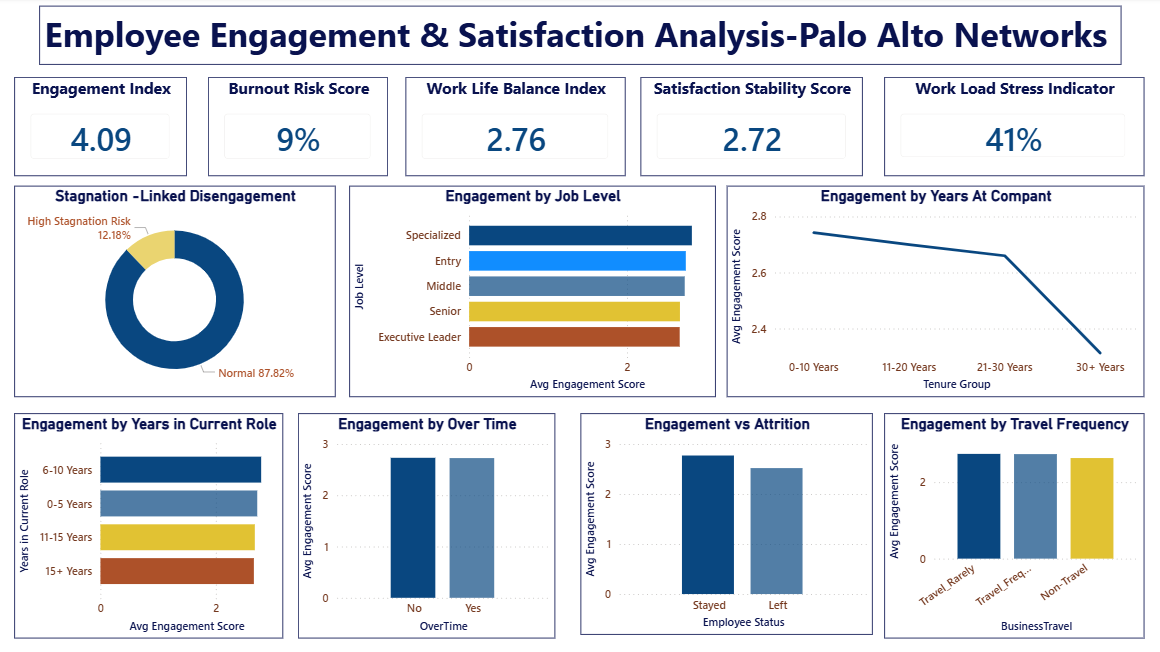

This screenshot's page, from the dashboard's own definition file:
{"tool":"powerbi","page":{"name":"Page 1","canvas":[1280,720],"ordinal":0},"visuals":[{"type":"clusteredColumnChart","title":"Engagement vs Attrition","fields":{"Category":["1 Chart.Employee Status"],"Y":["Sum(1 Chart.Avg Involvement score)"]},"box":[639.5,456.9,321.1,242.9],"z":0},{"type":"barChart","title":"Engagement by Job Level","fields":{"Category":["2 Chart.Job Level"],"Y":["Sum(2 Chart.Avg Involvement score)"]},"box":[385.6,207.2,402.1,231.9],"z":1000},{"type":"lineChart","title":"Engagement by Years At Compant","fields":{"Category":["3 Chart.Tenure Group"],"Y":["Sum(3 Chart.Avg Involvement score)"]},"box":[800,207.2,458.3,231.9],"z":2000},{"type":"barChart","title":"Engagement by Years in Current Role","fields":{"Category":["4 Chart.Role Tenure Group"],"Y":["Sum(4 Chart.Avg Involvement score)"]},"box":[17.8,456.9,295,247],"z":3000},{"type":"donutChart","title":" Stagnation -Linked Disengagement","fields":{"Category":["5 Chart.Stagnation Risk"],"Y":["Sum(5 Chart.Employee Count)"]},"box":[17.8,207.2,352.7,231.9],"z":4000},{"type":"textbox","box":[45.3,9.6,1188.3,64.5],"z":4001},{"type":"clusteredColumnChart","title":"Engagement by Over Time","fields":{"Category":["6 Chart.OverTime"],"Y":["Sum(6 Chart.Avg Involvement score)"]},"box":[329.3,456.9,282.7,247],"z":4002},{"type":"clusteredColumnChart","title":"Engagement by Travel Frequency","fields":{"Category":["7 Chart.BusinessTravel"],"Y":["Sum(7 Chart.Avg Involvement score)"]},"box":[972.9,456.9,285.4,247],"z":4003},{"type":"cardVisual","title":"Engagement Index","fields":{"Data":["Palo Alto Networks.Engagement Index"]},"box":[17.8,87.8,189.4,108.4],"z":4004},{"type":"cardVisual","title":"Burnout Risk Score","fields":{"Data":["Palo Alto Networks.Burnout Risk Score"]},"box":[230.5,87.8,197.6,108.4],"z":4005},{"type":"cardVisual","title":"Work Life Balance Index","fields":{"Data":["Palo Alto Networks.Work-Life Balance Index"]},"box":[447.3,87.8,241.5,108.4],"z":4006},{"type":"cardVisual","title":"Satisfaction Stability Score","fields":{"Data":["Palo Alto Networks.Satisfaction Stability Score"]},"box":[705.3,87.8,244.3,108.4],"z":4007},{"type":"cardVisual","title":"Work Load Stress Indicator","fields":{"Data":["Palo Alto Networks.Workload Stress Indicator"]},"box":[972.9,87.8,285.4,108.4],"z":4008}]}

Visuals, with their boxes in screenshot pixels (x1, y1, x2, y2), scaled from the page's 1280x720 canvas onto the 1160x652 screenshot:
"Engagement vs Attrition" clusteredColumnChart: [left=580, top=414, right=871, bottom=634]
"Engagement by Job Level" barChart: [left=349, top=188, right=714, bottom=398]
"Engagement by Years At Compant" lineChart: [left=725, top=188, right=1140, bottom=398]
"Engagement by Years in Current Role" barChart: [left=16, top=414, right=283, bottom=637]
" Stagnation -Linked Disengagement" donutChart: [left=16, top=188, right=336, bottom=398]
textbox: [left=41, top=9, right=1118, bottom=67]
"Engagement by Over Time" clusteredColumnChart: [left=298, top=414, right=555, bottom=637]
"Engagement by Travel Frequency" clusteredColumnChart: [left=882, top=414, right=1140, bottom=637]
"Engagement Index" cardVisual: [left=16, top=80, right=188, bottom=178]
"Burnout Risk Score" cardVisual: [left=209, top=80, right=388, bottom=178]
"Work Life Balance Index" cardVisual: [left=405, top=80, right=624, bottom=178]
"Satisfaction Stability Score" cardVisual: [left=639, top=80, right=861, bottom=178]
"Work Load Stress Indicator" cardVisual: [left=882, top=80, right=1140, bottom=178]
